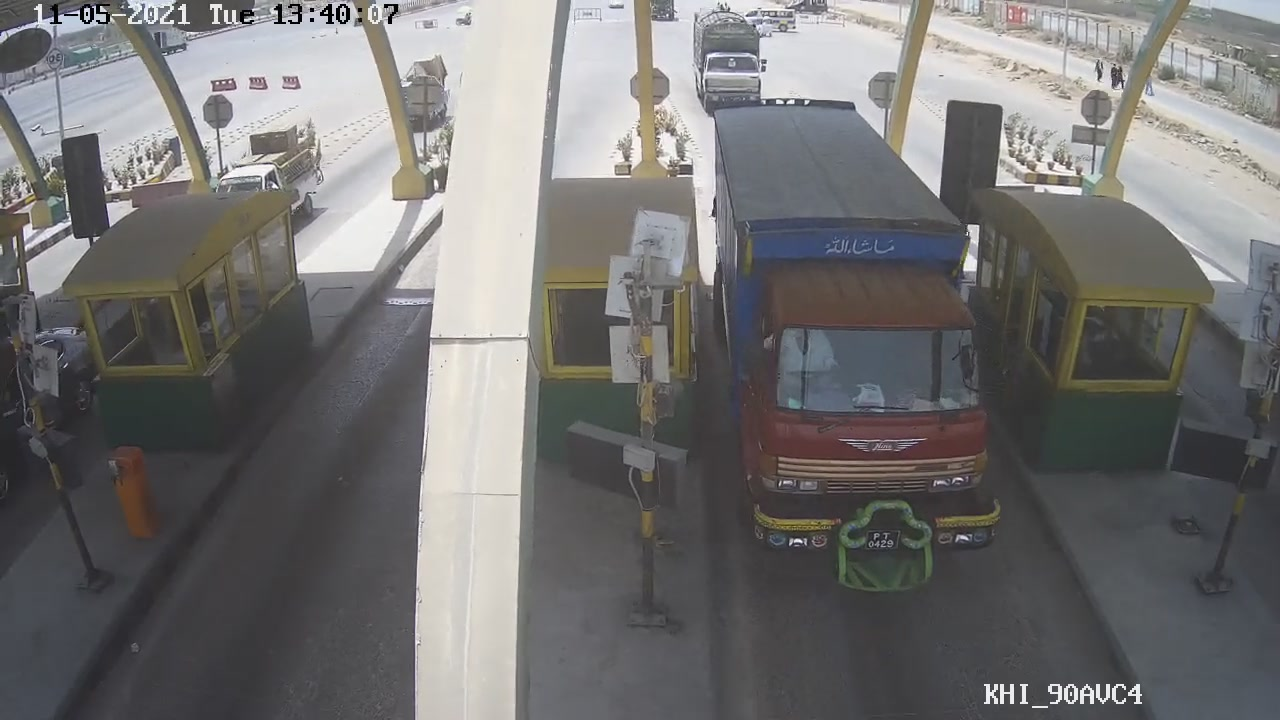F3: (706, 115, 998, 599)
